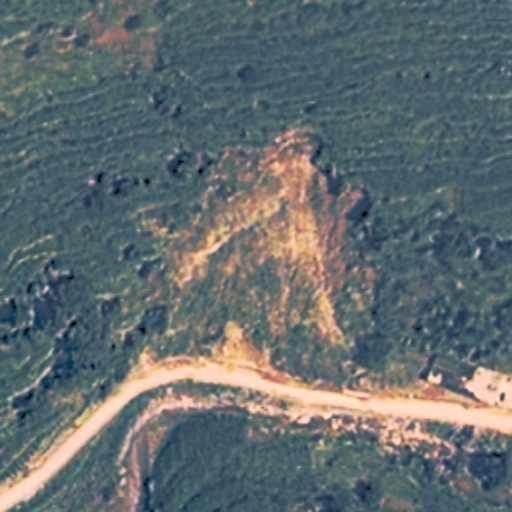landslide: (160, 132, 369, 369)
